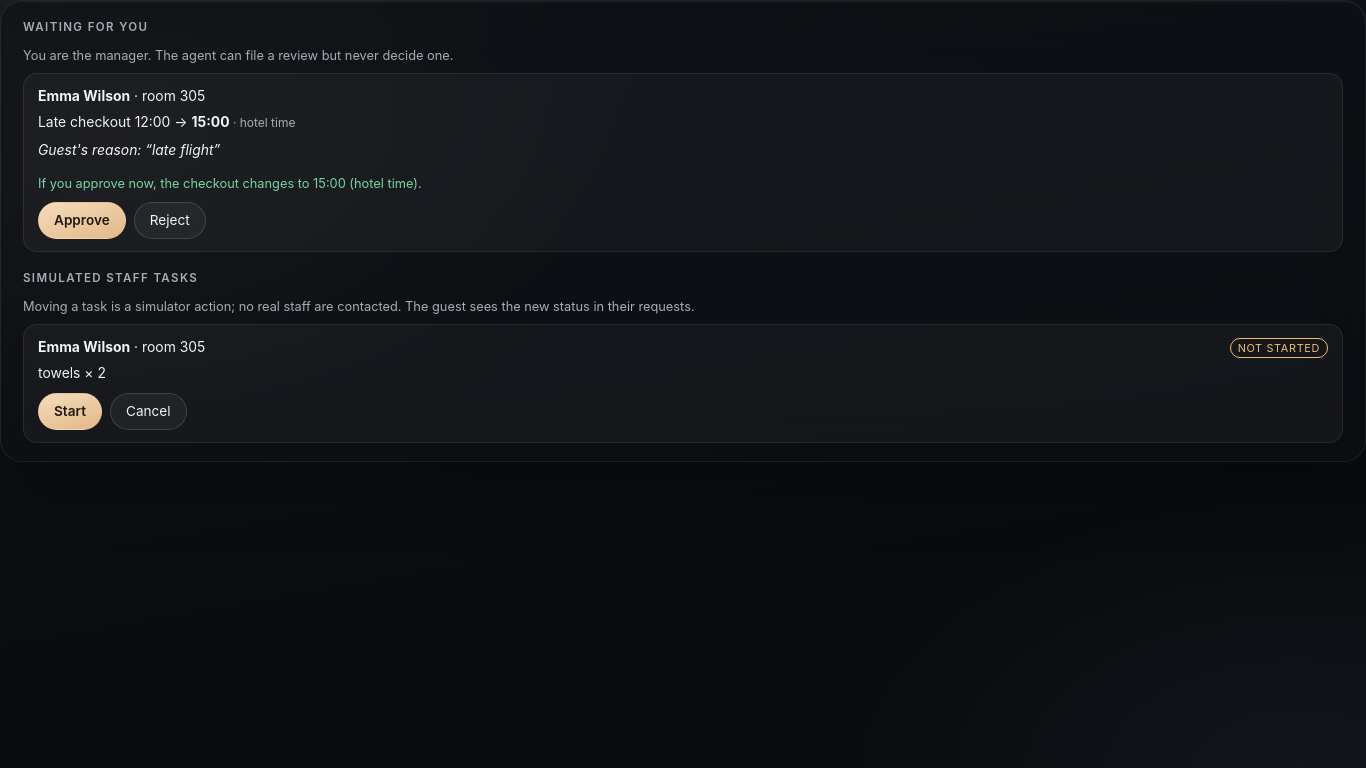
Test: Manager tab › reports a stale approve attempt as not executed
What coordinates should you click on to do the following:
click the button "Approve"
I would click on:
 (82, 220)
Its box is [38, 202, 126, 239].
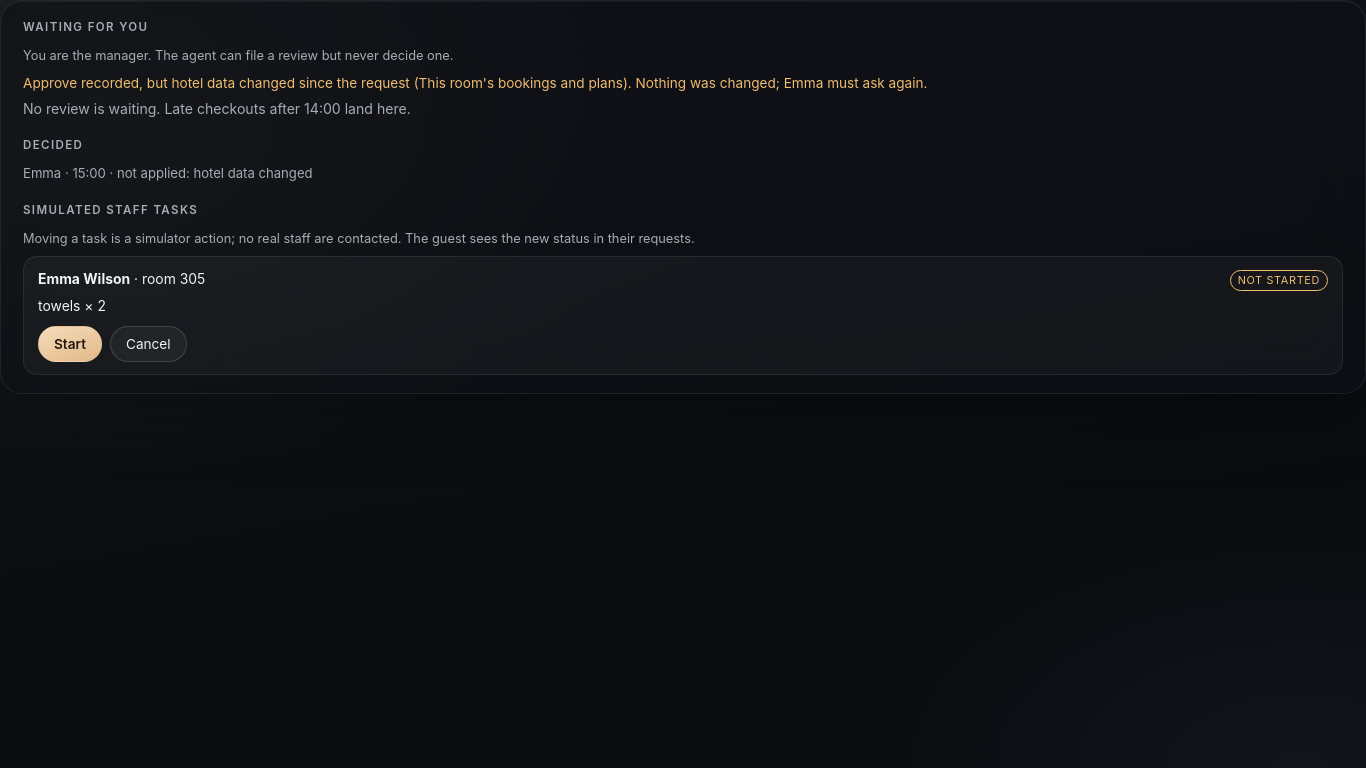
Result: the message with test id "operator-result" shows "Approve recorded, but hotel data changed since the request (This room's bookings and plans). Nothing was changed" at [23, 76, 928, 92]
